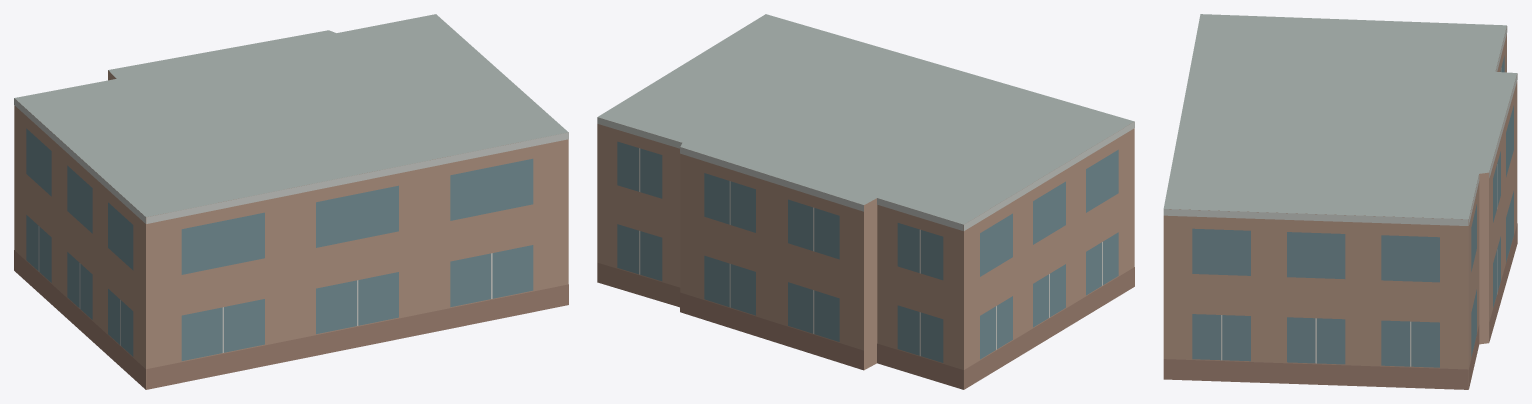
File: survey-upis-32999985.glb
3 renders of one model, left to right at view 1: azimuth 30°, elevation 25°; view 2: azimuth 150°, elevation 25°; view 3: azimuth 270°, elevation 25°, orthographic. The views are drawn at different scales.
Parts seen in each view (by area): view 1: survey-upis-32999985.tmp; view 2: survey-upis-32999985.tmp; view 3: survey-upis-32999985.tmp.
Part boxes in pixels (x1=…): survey-upis-32999985.tmp: x1=14, y1=14, x2=568, y2=389; survey-upis-32999985.tmp: x1=597, y1=14, x2=1134, y2=389; survey-upis-32999985.tmp: x1=1163, y1=14, x2=1517, y2=389.
Size of the model in its own units: 15.76 by 6.1 by 11.48.
